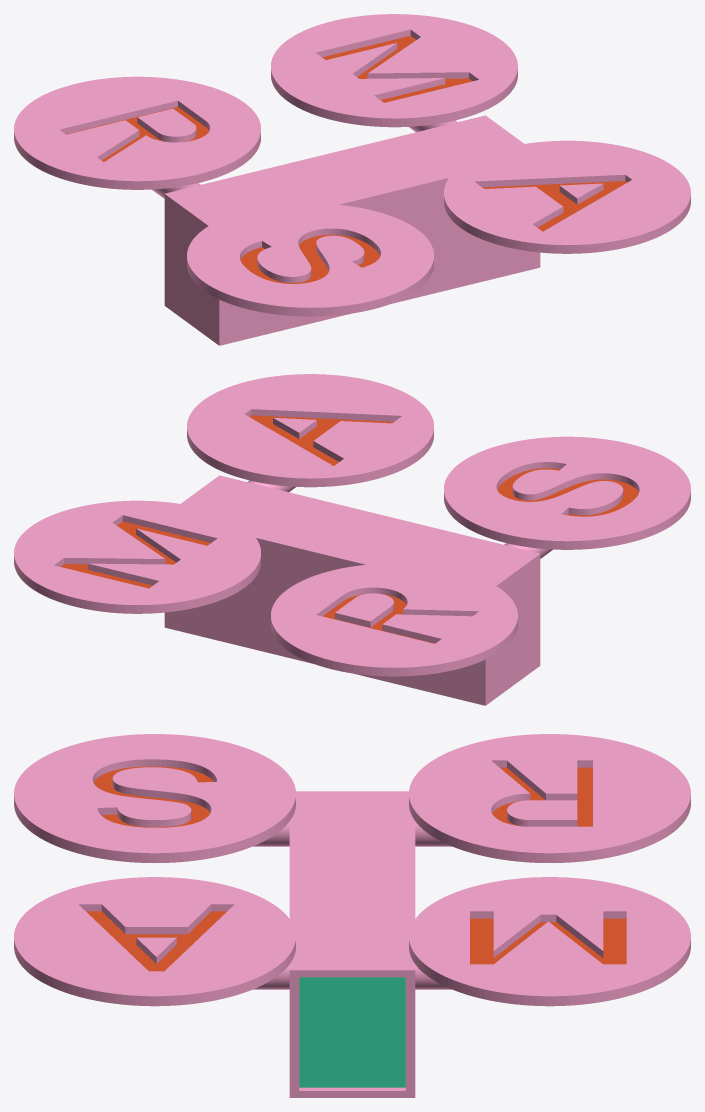
File: hongyan-pink.dae
The picture shows the model from 3 angles, top to bottom: view 1: azimuth 30°, elevation 25°; view 2: azimuth 150°, elevation 25°; view 3: azimuth 270°, elevation 25°; orthographic projection. The views are drawn at different scales.
Parts seen in each view (by area): view 1: hongyan_simplemars; view 2: hongyan_simplemars; view 3: hongyan_simplemars.
Boxes of the visible parts, bbox=[...] form: hongyan_simplemars: bbox=[14, 14, 690, 345]; hongyan_simplemars: bbox=[14, 374, 690, 705]; hongyan_simplemars: bbox=[14, 734, 690, 1097].
Size of the model in its own units: 0.5028 by 0.5485 by 0.1282.
